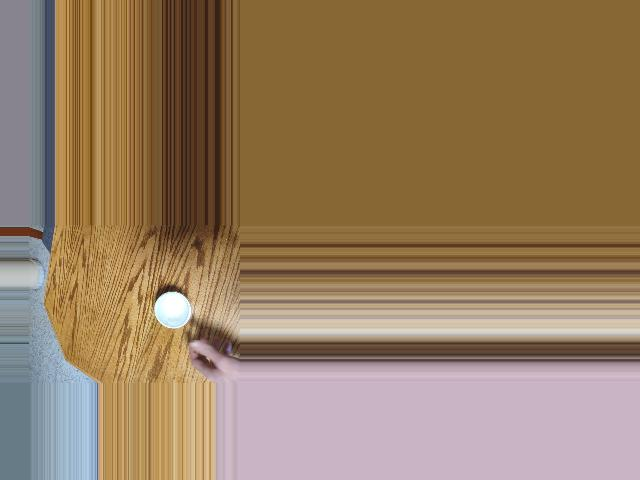cotage: (154, 293, 196, 331)
